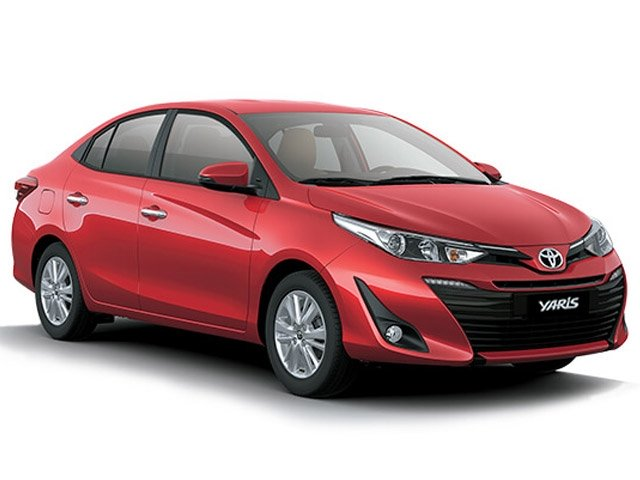Car: (2, 89, 640, 403)
